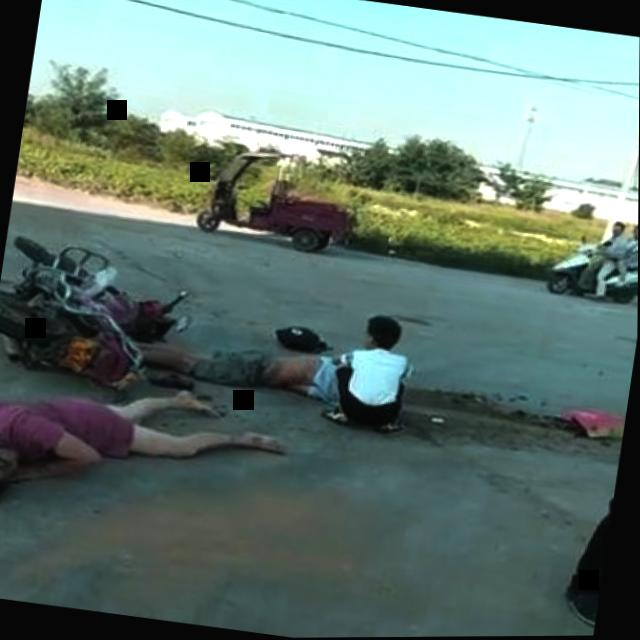Fall-Detected: (0, 353, 292, 563)
